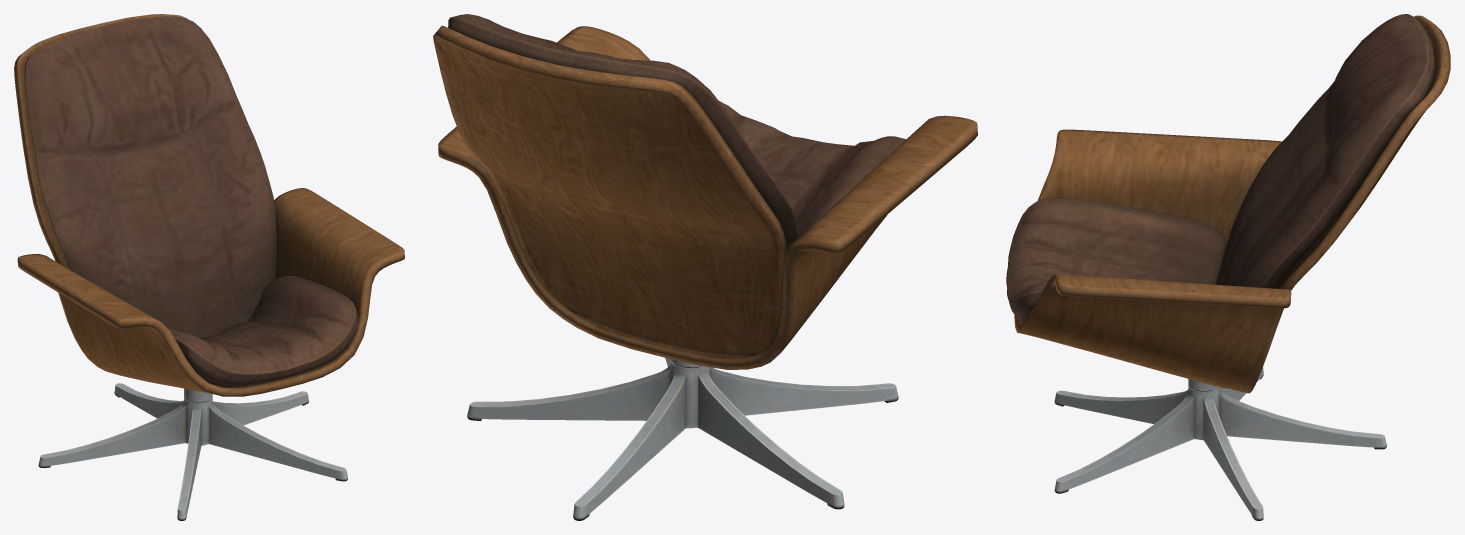
File: mid_century_lounge_chair.glb
The picture shows the model from 3 angles, left to right: view 1: azimuth 30°, elevation 25°; view 2: azimuth 150°, elevation 25°; view 3: azimuth 270°, elevation 25°; orthographic projection. The views are drawn at different scales.
Visible parts, largest first — view 1: mid_century_lounge_chair; view 2: mid_century_lounge_chair; view 3: mid_century_lounge_chair.
Part boxes in pixels (x1,y1,x2,y2): mid_century_lounge_chair: (14,14,404,520); mid_century_lounge_chair: (433,14,977,520); mid_century_lounge_chair: (1006,14,1450,520).
Bounding box in the file's own units: 1.01 × 1.17 × 1.19.
Materials: 1 (1 with a texture image).
